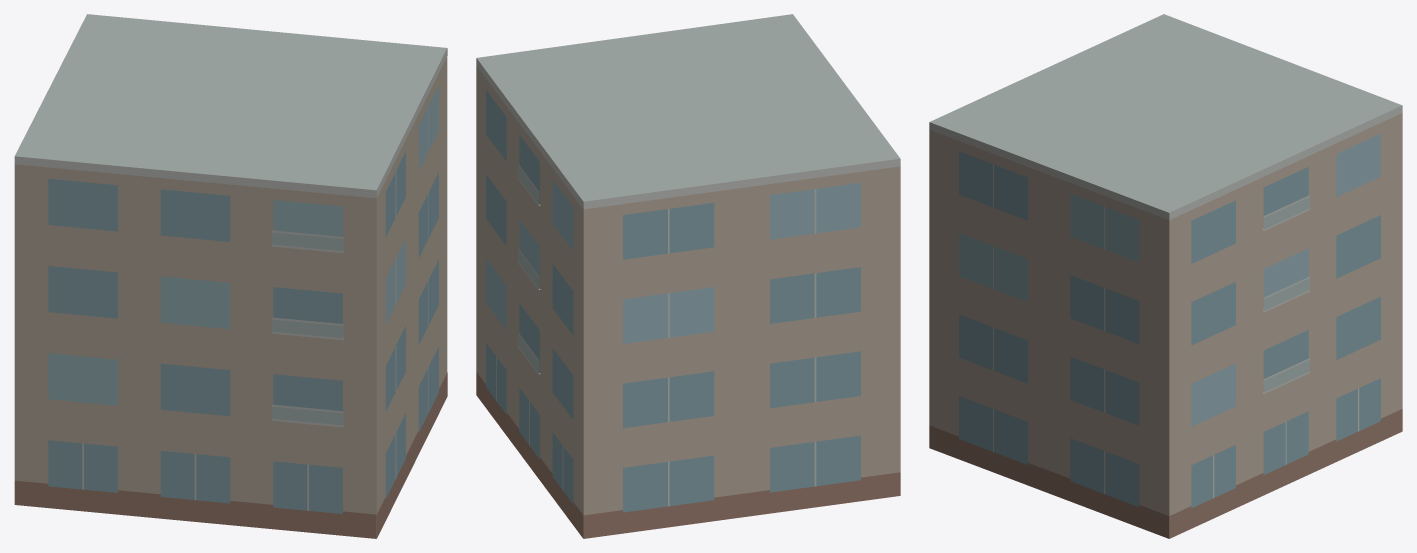
File: survey-upis-32982415.glb
3 renders of one model, left to right at view 1: azimuth 30°, elevation 25°; view 2: azimuth 150°, elevation 25°; view 3: azimuth 270°, elevation 25°, orthographic. The views are drawn at different scales.
Visible parts, largest first — view 1: survey-upis-32982415.tmp; view 2: survey-upis-32982415.tmp; view 3: survey-upis-32982415.tmp.
Boxes of the visible parts, x1,y1,x2,y2 form: survey-upis-32982415.tmp: [14, 14, 447, 538]; survey-upis-32982415.tmp: [476, 14, 900, 538]; survey-upis-32982415.tmp: [929, 14, 1402, 538].
Size of the model in its own units: 14.01 by 10.7 by 14.09.
